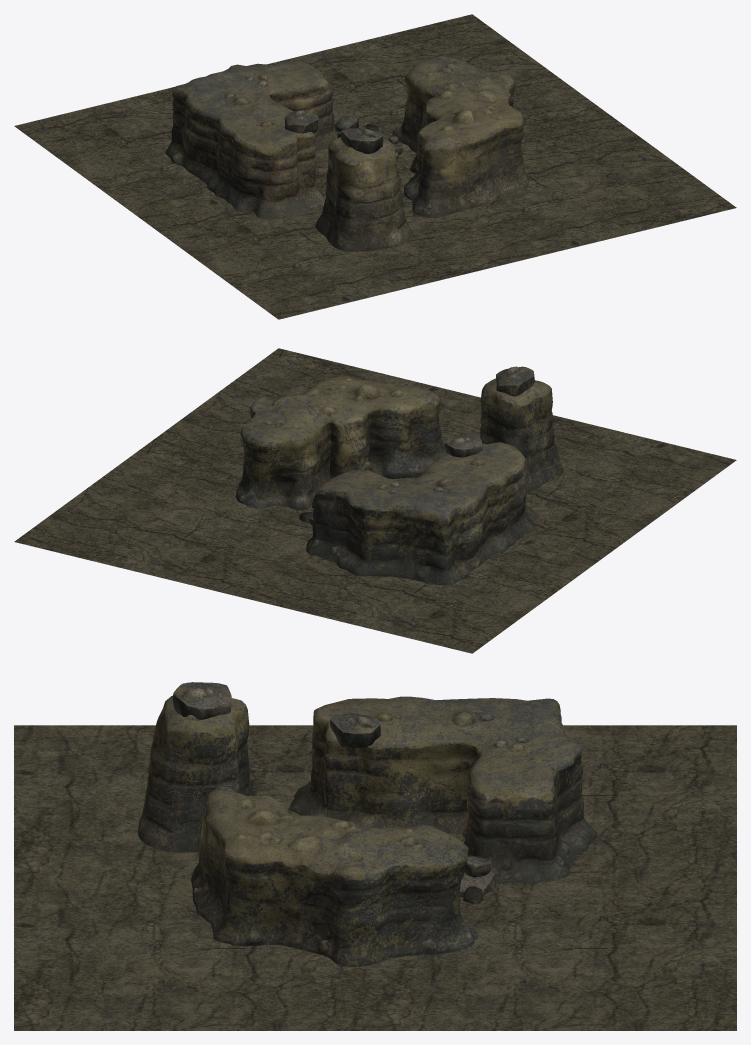
Rendered from rocks_set2_62ab17.fbx.
The picture shows the model from 3 angles, top to bottom: view 1: azimuth 30°, elevation 25°; view 2: azimuth 150°, elevation 25°; view 3: azimuth 270°, elevation 25°; orthographic projection. The views are drawn at different scales.
Visible parts, largest first — view 1: rocks_set2_62ab17; view 2: rocks_set2_62ab17; view 3: rocks_set2_62ab17.
Part boxes in pixels (x1,y1,x2,y2): rocks_set2_62ab17: (14, 14, 736, 319); rocks_set2_62ab17: (14, 348, 736, 653); rocks_set2_62ab17: (14, 682, 736, 1030).
Bounding box in the file's own units: 20 × 4.51 × 20.
Materials: 2 (2 with a texture image).
